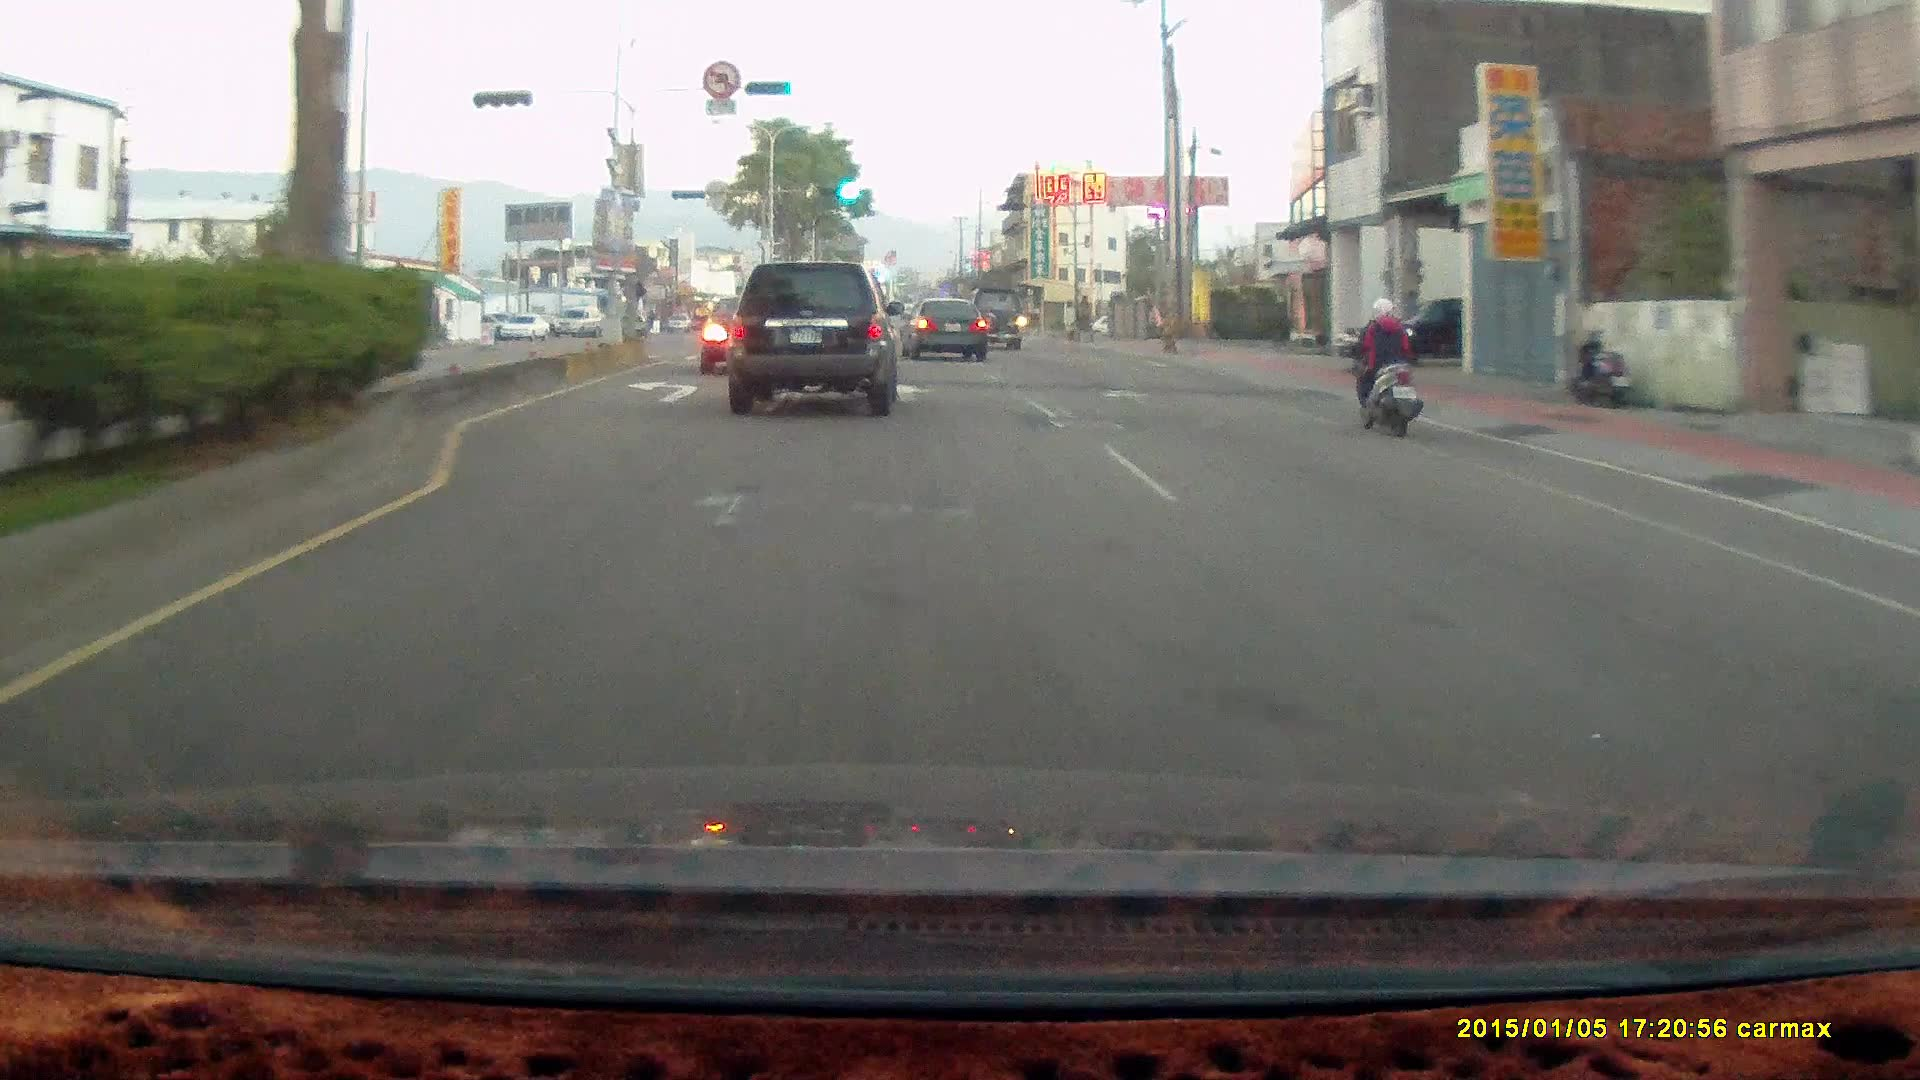rider: (1337, 287, 1437, 446), (1345, 291, 1421, 434)
vehicle: (720, 258, 900, 422), (724, 261, 903, 414), (1340, 294, 1528, 367), (1349, 290, 1476, 367), (699, 294, 806, 379), (697, 294, 802, 374), (906, 298, 990, 365), (902, 297, 987, 360), (960, 287, 1023, 354), (964, 288, 1025, 354), (497, 312, 550, 340), (552, 306, 601, 335)
